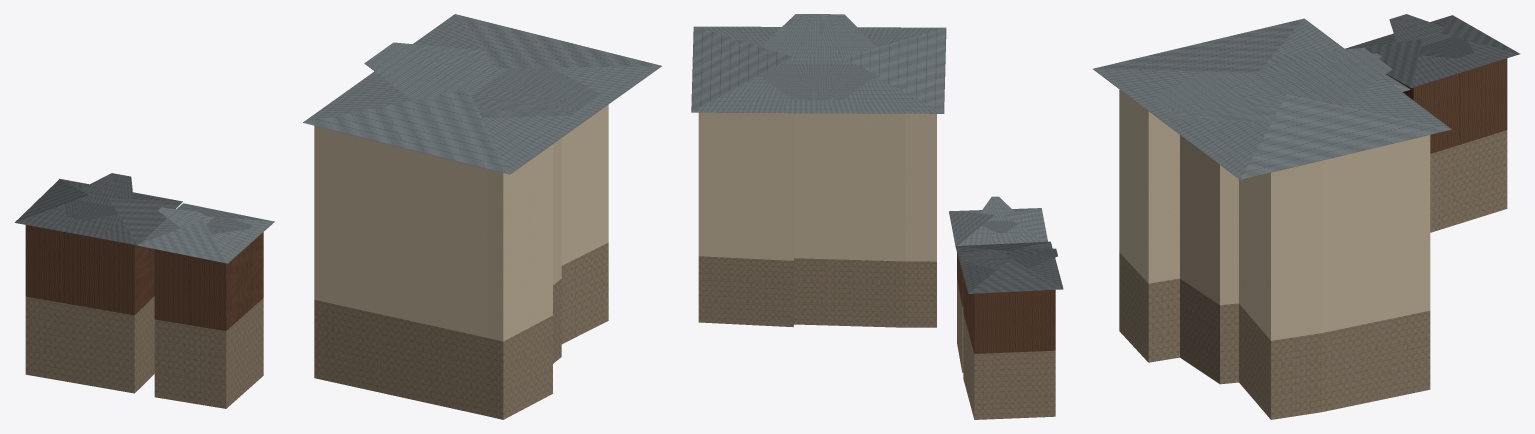
Rendered from bld_c38_-11_539.gltf.
3 renders of one model, left to right at view 1: azimuth 30°, elevation 25°; view 2: azimuth 150°, elevation 25°; view 3: azimuth 270°, elevation 25°, orthographic. The views are drawn at different scales.
Visible parts, largest first — view 1: bld_c38_-11_539; view 2: bld_c38_-11_539; view 3: bld_c38_-11_539.
Boxes of the visible parts, x1,y1,x2,y2 form: bld_c38_-11_539: (14, 14, 661, 419); bld_c38_-11_539: (691, 14, 1063, 419); bld_c38_-11_539: (1093, 14, 1519, 419).
Bounding box in the file's own units: 36.96 × 17.7 × 25.04.
5 materials, 5 textured.
